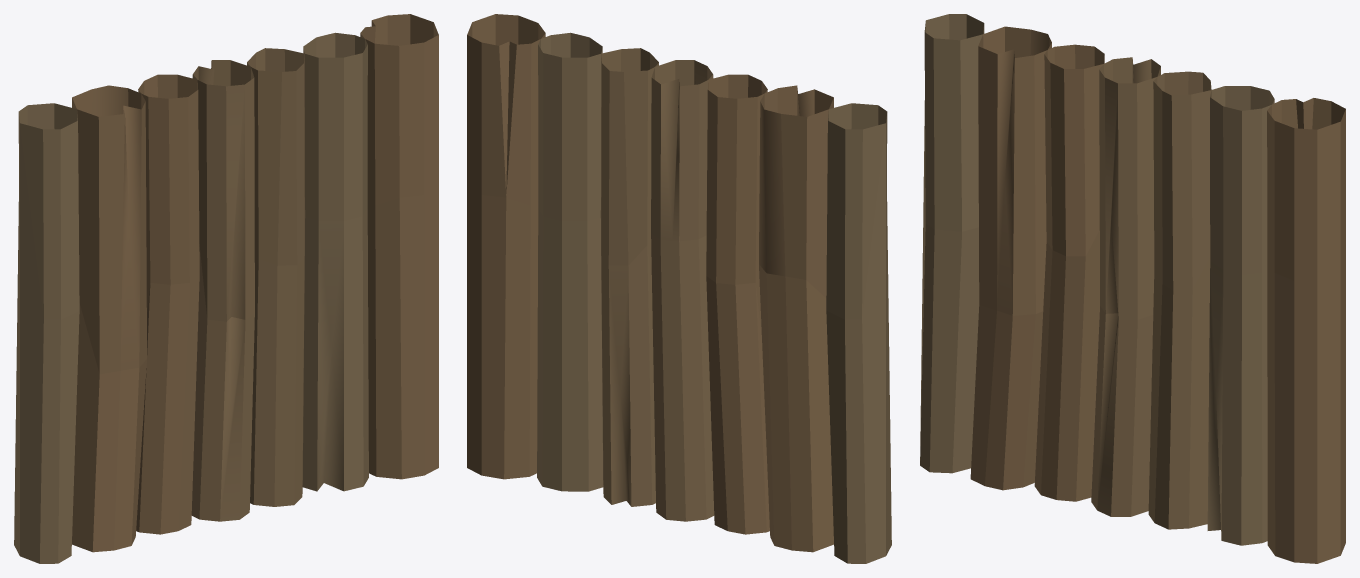
File: rpgpp_ag_wall_02_3x3_c.fbx
The picture shows the model from 3 angles, left to right: view 1: azimuth 30°, elevation 25°; view 2: azimuth 150°, elevation 25°; view 3: azimuth 330°, elevation 25°; orthographic projection.
Visible parts, largest first — view 1: rpgpp_ag_wall_02_3x3_c; view 2: rpgpp_ag_wall_02_3x3_c; view 3: rpgpp_ag_wall_02_3x3_c.
Part boxes in pixels (x1,y1,x2,y2): rpgpp_ag_wall_02_3x3_c: [14, 14, 438, 563]; rpgpp_ag_wall_02_3x3_c: [467, 14, 891, 563]; rpgpp_ag_wall_02_3x3_c: [920, 14, 1345, 563].
Bounding box in the file's own units: 3 × 3 × 0.4626.
